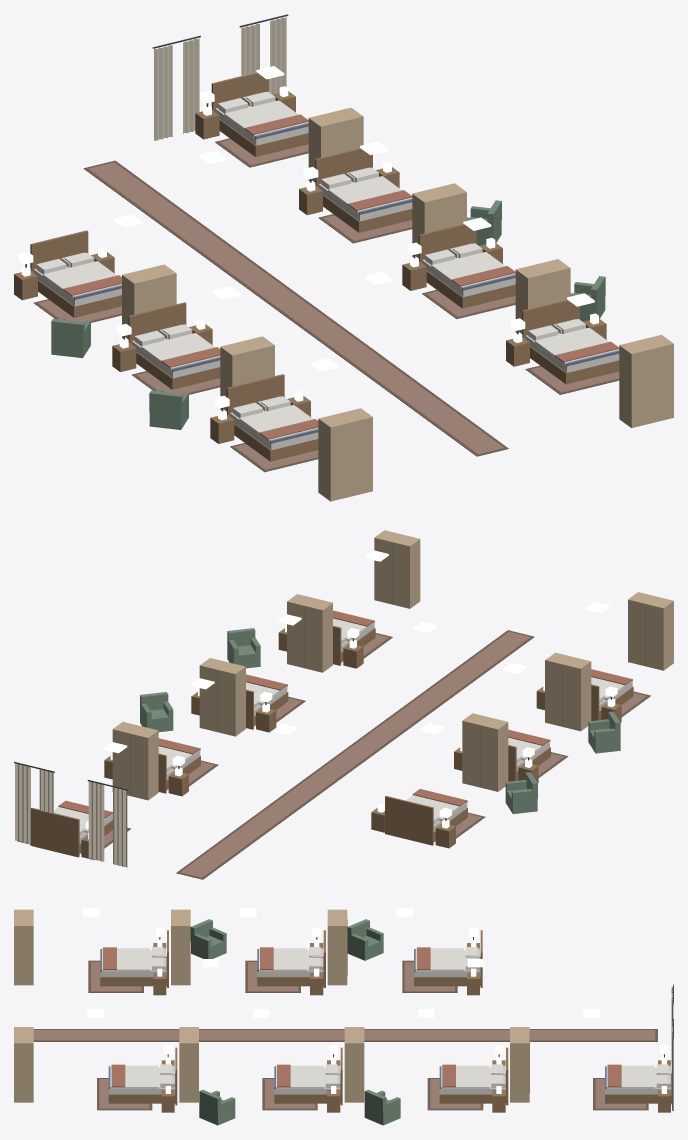
The model's file is fine-s5.glb.
The picture shows the model from 3 angles, top to bottom: view 1: azimuth 30°, elevation 25°; view 2: azimuth 150°, elevation 25°; view 3: azimuth 270°, elevation 25°; orthographic projection. The views are drawn at different scales.
Parts seen in each view (by area): view 1: soft-s5, dresser.030, dresser.034, bed-frame.033, bed-frame.031, bed-frame.032, bed-frame.034, bed-frame.029, bed-frame.030, bed-frame.028, dresser.031, dresser.033 (+7 smaller); view 2: soft-s5, dresser.029, dresser.028, dresser.030, dresser.034, dresser.032, dresser.033, dresser.031, bed-frame.028, bed-frame.031, lounge-chair.018, lounge-chair.019 (+7 smaller); view 3: soft-s5, dresser.028, dresser.032, dresser.029, dresser.030, dresser.031, dresser.033, dresser.034, lounge-chair.016, bed-frame.032, bed-frame.029, bed-frame.034 (+12 smaller).
Part boxes in pixels (x1,y1,x2,y2): soft-s5: (18,14,619,472); dresser.030: (318,408,372,501); dresser.034: (619,335,673,427); bed-frame.033: (418,224,515,308); bed-frame.031: (211,72,308,156); bed-frame.032: (315,148,412,232); bed-frame.034: (522,299,619,384); bed-frame.029: (128,302,220,389); bed-frame.030: (226,374,318,461); bed-frame.028: (30,230,121,317); dresser.031: (308,107,363,182); dresser.033: (515,259,570,333); soft-s5: (14,610,650,879); dresser.029: (545,652,591,731); dresser.028: (462,713,508,791); dresser.030: (628,592,673,670); dresser.034: (374,530,420,608); dresser.032: (199,658,245,736); dresser.033: (287,594,332,672); dresser.031: (112,722,158,800); bed-frame.028: (385,796,467,845); bed-frame.031: (30,807,112,857); lounge-chair.018: (140,692,173,732); lounge-chair.019: (227,628,260,668); soft-s5: (33,928,673,1111); dresser.028: (327,909,347,985); dresser.032: (344,1027,364,1102); dresser.029: (171,909,190,985); dresser.030: (14,909,33,985); dresser.031: (510,1027,529,1102); dresser.033: (179,1027,198,1102); dresser.034: (14,1027,33,1102); lounge-chair.016: (347,919,383,960); bed-frame.032: (439,1047,508,1105); bed-frame.029: (257,930,325,987); bed-frame.034: (108,1047,177,1105).
Bounding box in the file's own units: 13.03 × 2.56 × 20.2.
